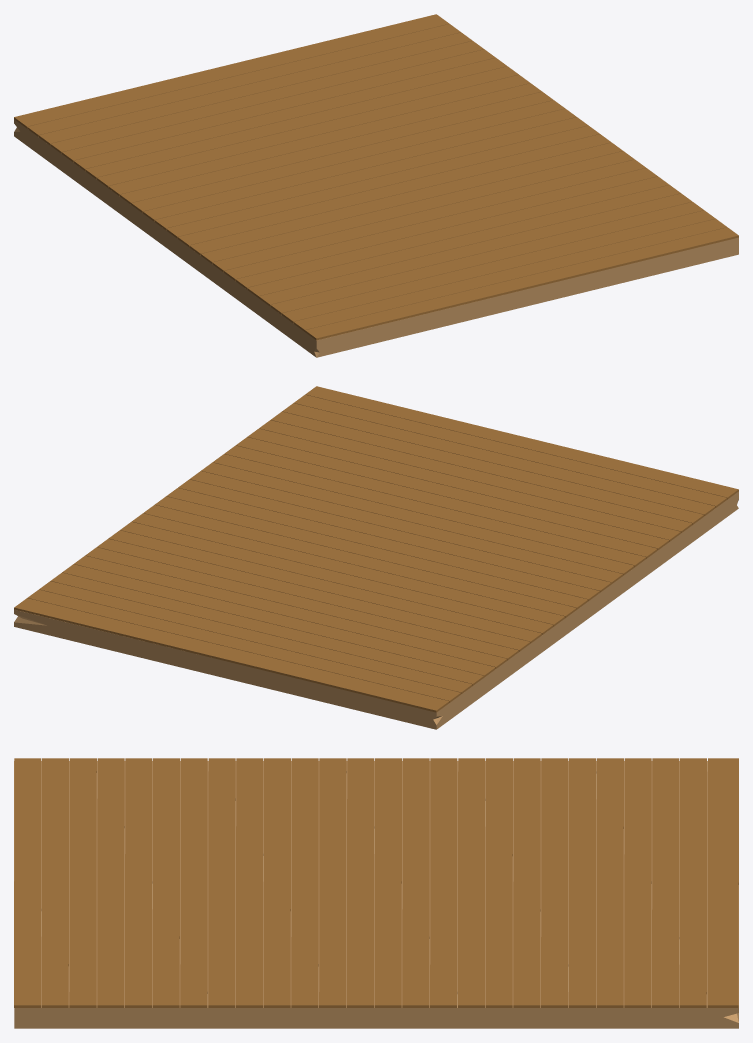
File: Platform_3.fbx
The picture shows the model from 3 angles, top to bottom: view 1: azimuth 30°, elevation 25°; view 2: azimuth 150°, elevation 25°; view 3: azimuth 270°, elevation 25°; orthographic projection. The views are drawn at different scales.
Visible parts, largest first — view 1: Platform_3; view 2: Platform_3; view 3: Platform_3.
Boxes of the visible parts, x1,y1,x2,y2 form: Platform_3: (14, 14, 738, 357); Platform_3: (14, 386, 738, 729); Platform_3: (14, 758, 738, 1028).
Bounding box in the file's own units: 756 × 938 × 32.89.
